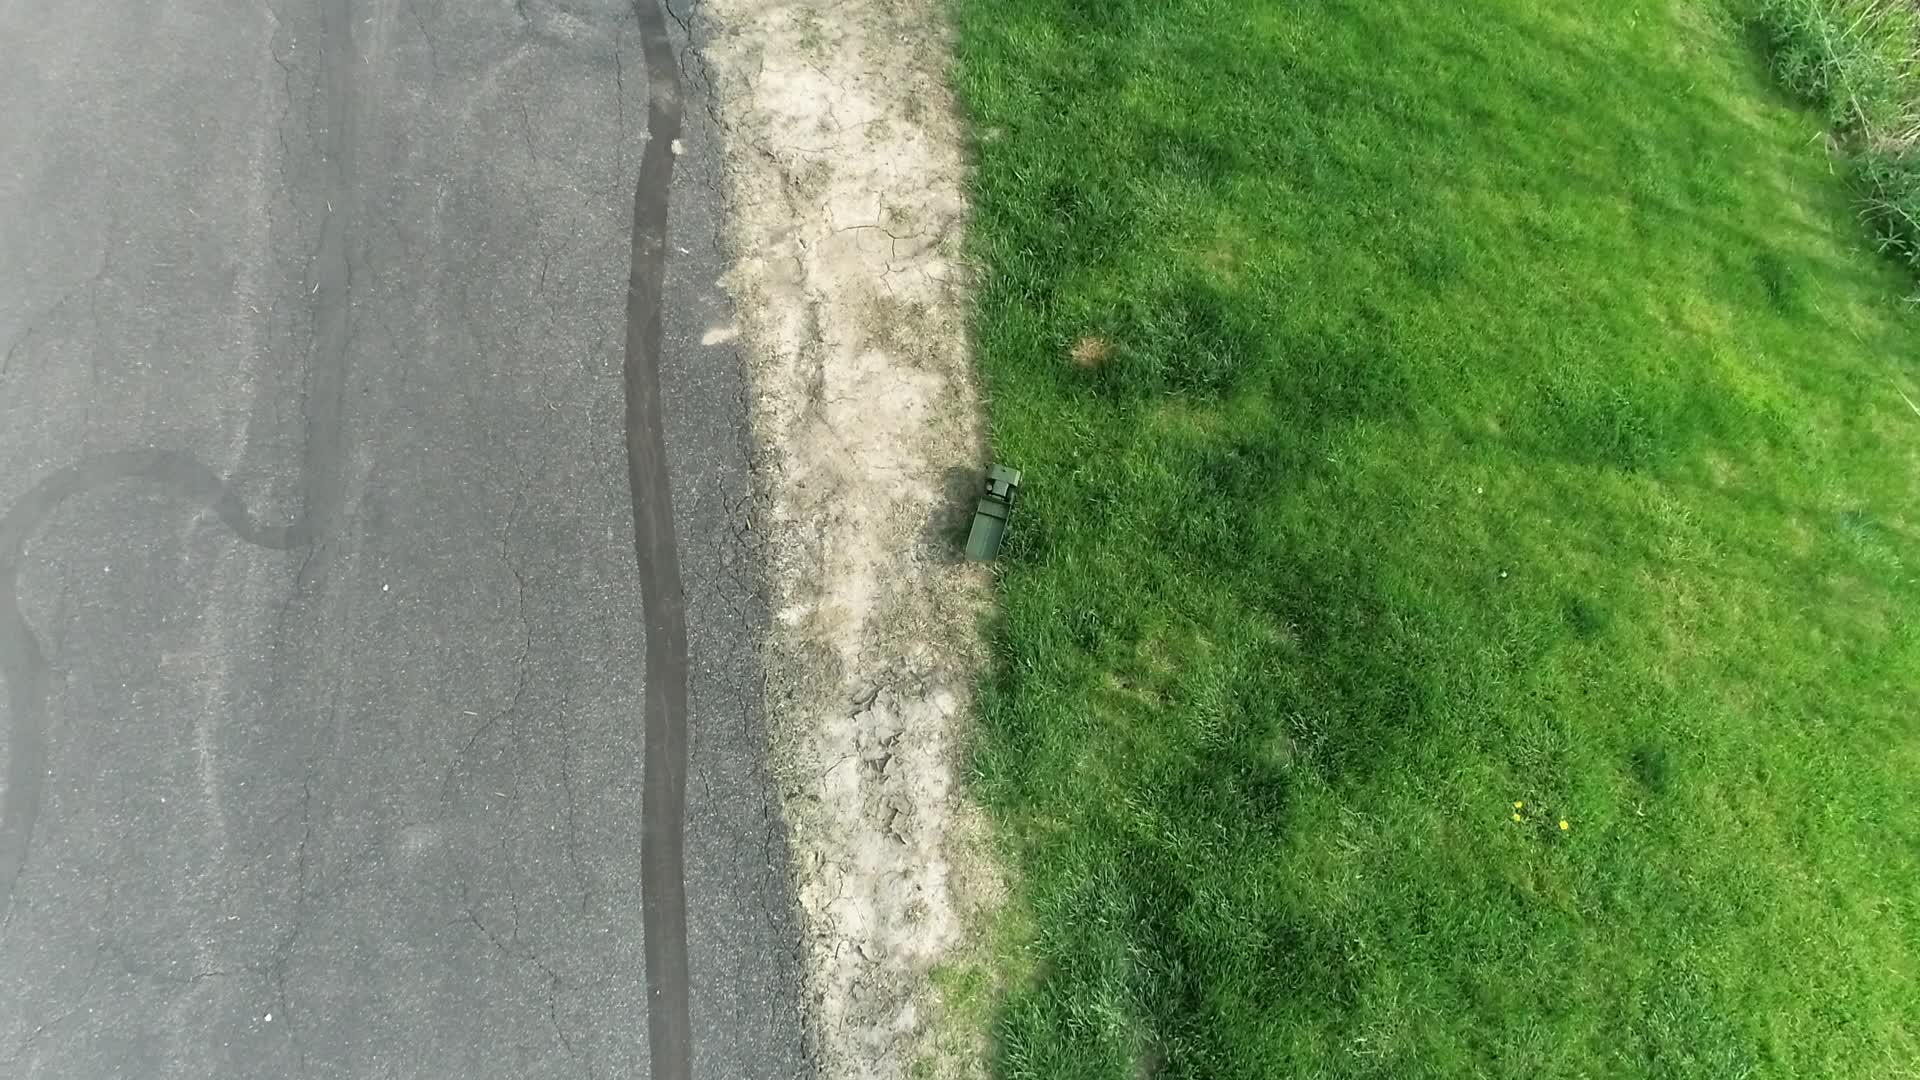transporter9: (956, 456, 1029, 572)
